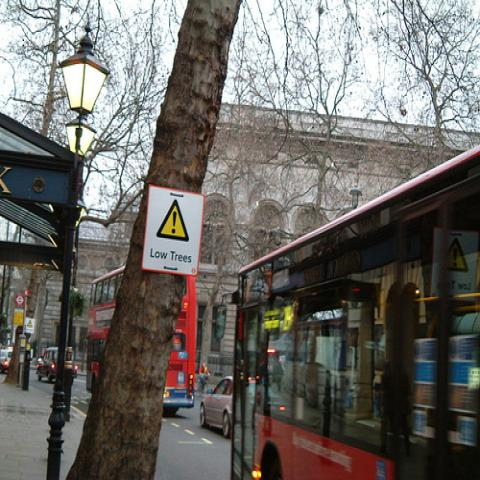bus: (229, 144, 479, 473), (83, 261, 201, 420)
car: (198, 376, 234, 438), (37, 346, 58, 381), (0, 349, 14, 370)
